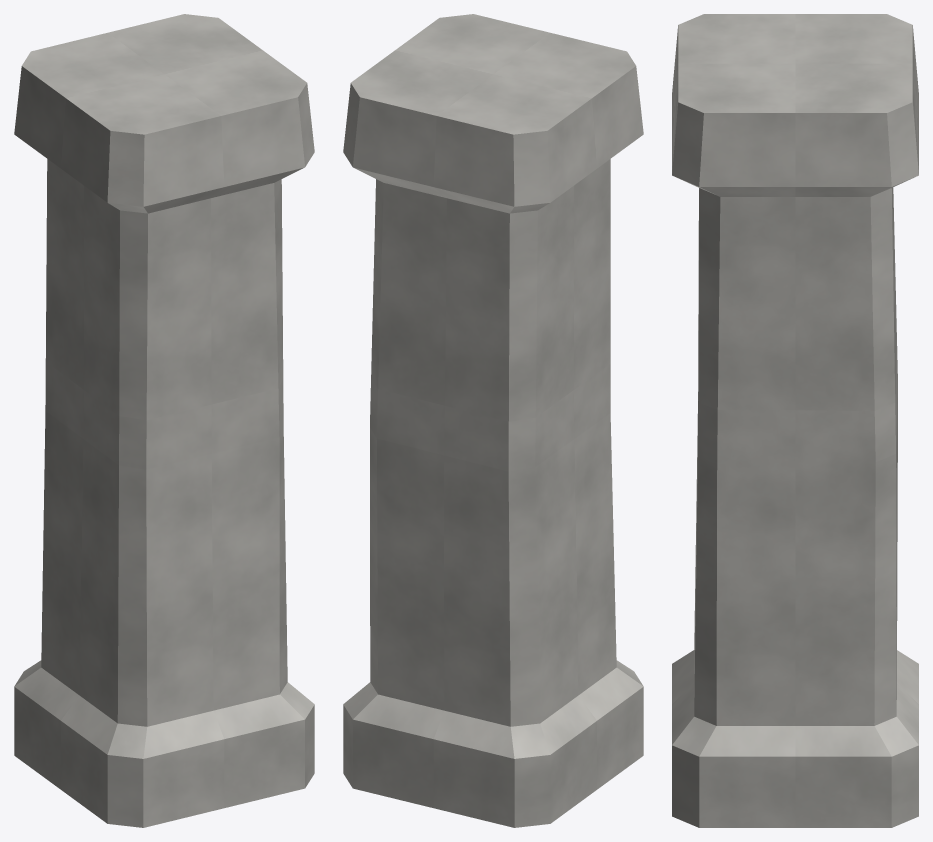
Rendered from 돌기둥.fbx.
The picture shows the model from 3 angles, left to right: view 1: azimuth 30°, elevation 25°; view 2: azimuth 150°, elevation 25°; view 3: azimuth 270°, elevation 25°; orthographic projection. The views are drawn at different scales.
Parts seen in each view (by area): view 1: 돌기둥; view 2: 돌기둥; view 3: 돌기둥.
Boxes of the visible parts, <box> form: 돌기둥: <box>14,14,314,827</box>; 돌기둥: <box>343,14,643,827</box>; 돌기둥: <box>672,14,918,827</box>.
Bounding box in the file's own units: 220 × 700 × 220.
1 material, 1 textured.
